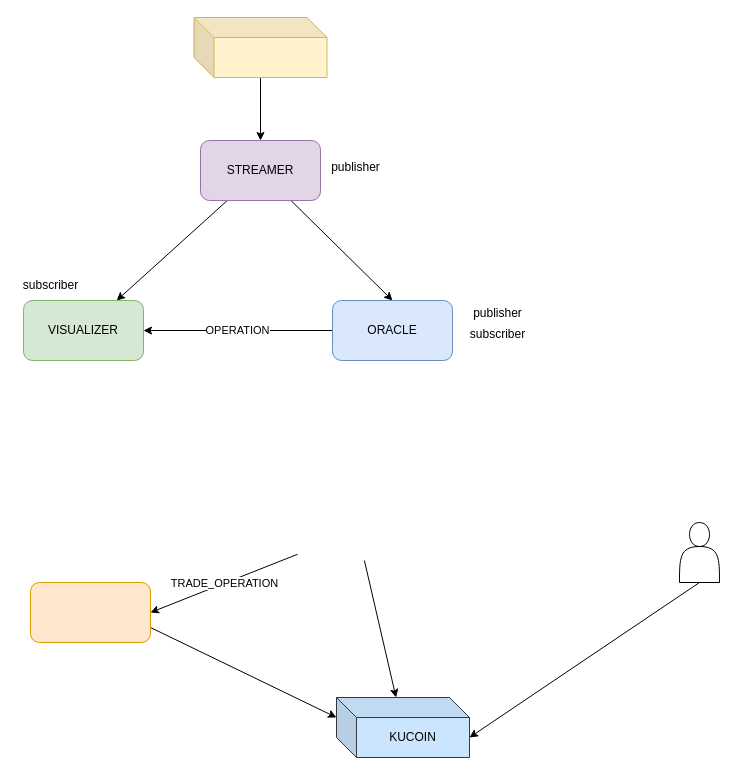
Some shapes in this 737 by 775 pixel diagram are drawn without their labels. Here are the shapes that lost their labels. From the top down, the box of each, then its label:
(193, 16, 327, 78): API
(30, 582, 150, 642): TRADER
